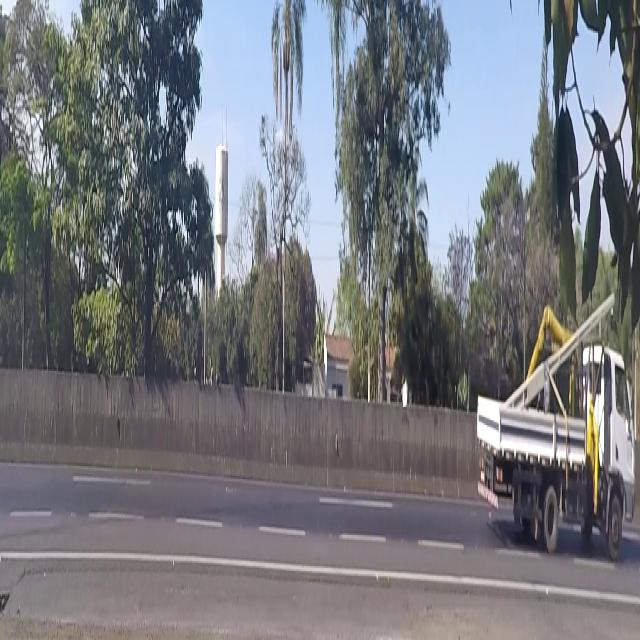-axle: (605, 483, 627, 574), (542, 476, 562, 556)
